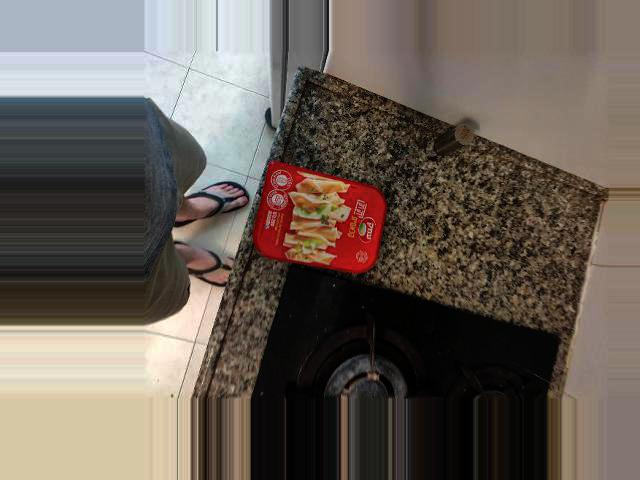cheese: (365, 180, 528, 294)
